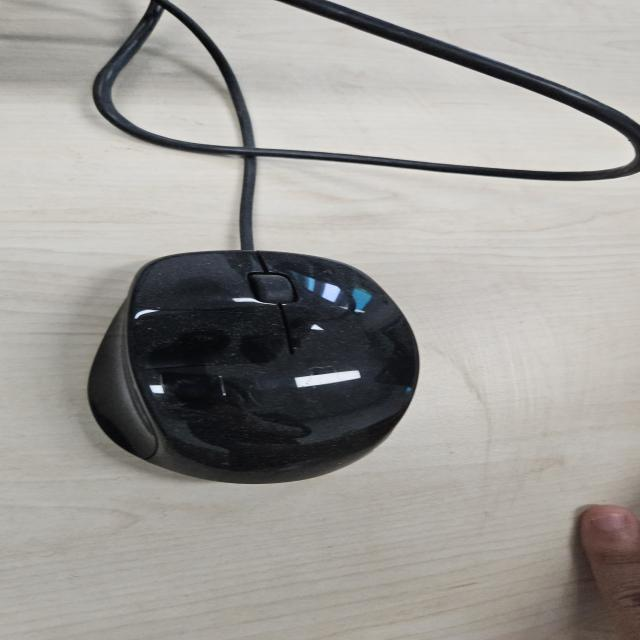Mouse: (84, 248, 423, 485)
